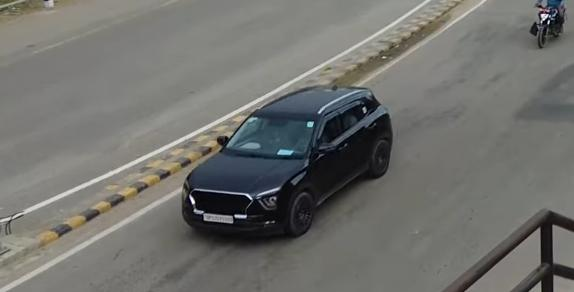bike: (529, 2, 570, 52)
car: (180, 86, 402, 242)
